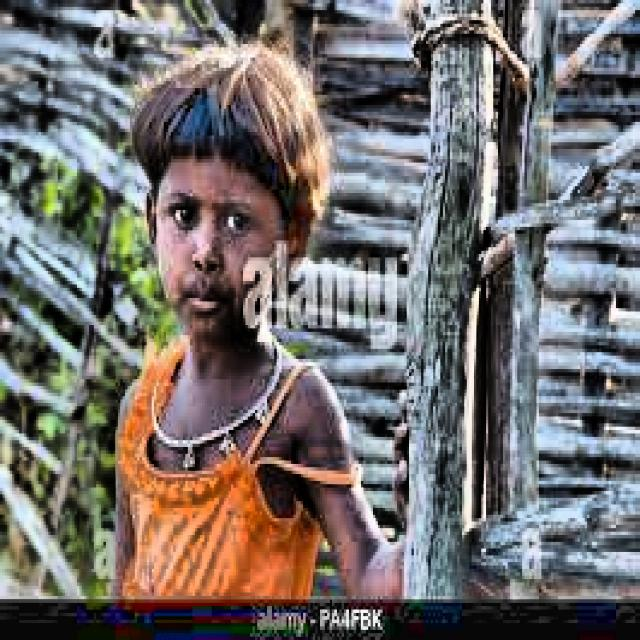Human: (105, 61, 395, 553)
